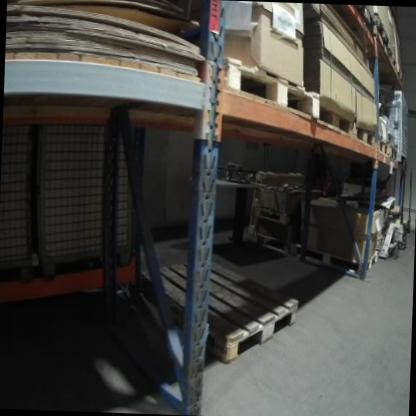pallet: (136, 255, 302, 369), (218, 56, 322, 120), (293, 244, 377, 278), (237, 220, 305, 255), (319, 101, 352, 141), (347, 6, 378, 36), (252, 206, 300, 224), (374, 13, 391, 56), (351, 118, 375, 148), (388, 39, 397, 75), (376, 134, 389, 157), (396, 62, 406, 90), (388, 143, 399, 163)
pallet_truck: (371, 153, 410, 263), (404, 166, 416, 238)
stillage: (34, 104, 146, 288), (0, 98, 38, 290), (373, 83, 414, 165)
